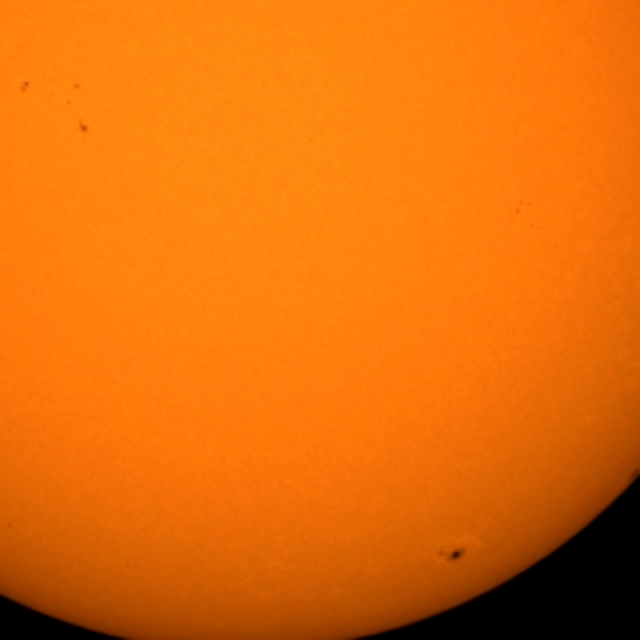sunspot: (436, 544, 468, 566), (513, 198, 533, 218), (18, 79, 31, 95), (77, 121, 90, 135), (69, 82, 81, 97), (3, 520, 13, 532), (72, 82, 82, 91), (65, 98, 72, 107)
